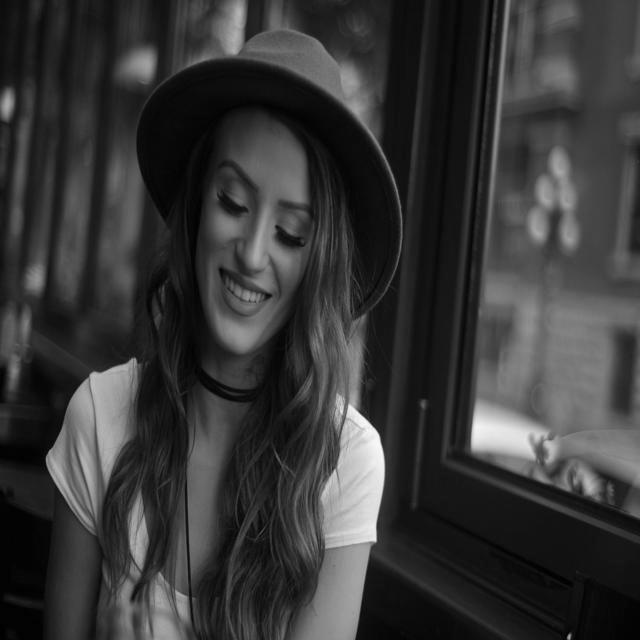Happiness: (187, 100, 320, 362)
